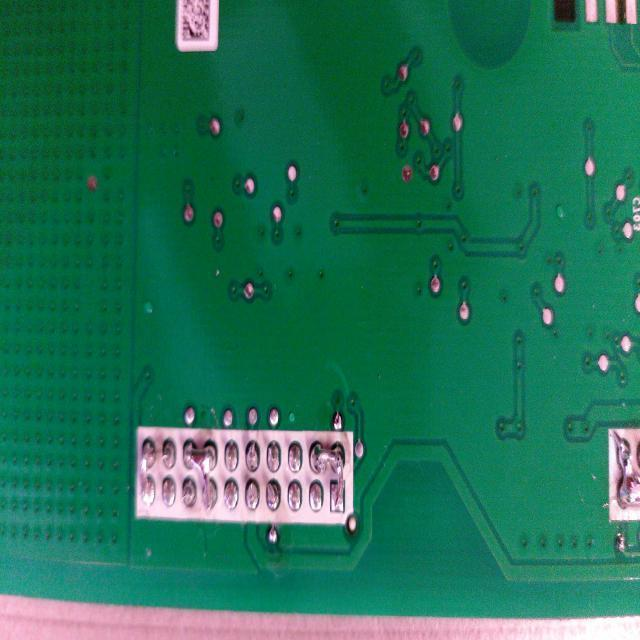Soldering shorted: (306, 441, 348, 508), (610, 419, 640, 512), (181, 442, 217, 508), (138, 445, 157, 504)
